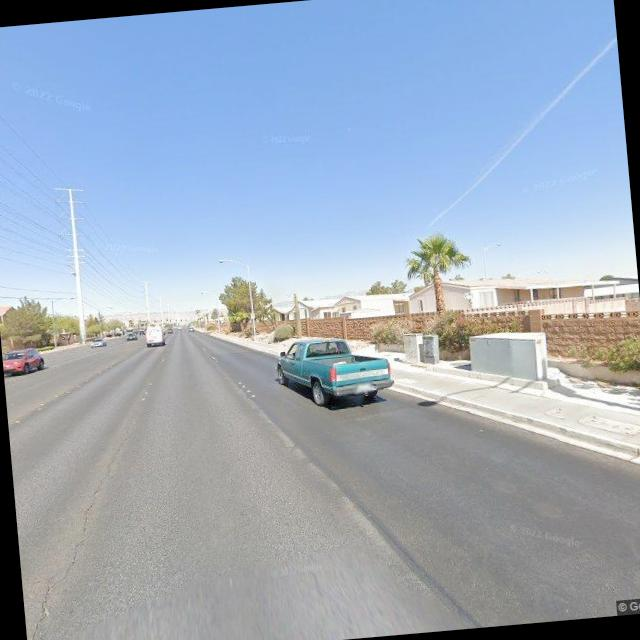pothole: (9, 435, 142, 640)
